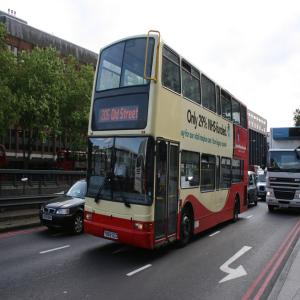Vehicle-registration-plate: (105, 230, 119, 241), (44, 215, 53, 224)
